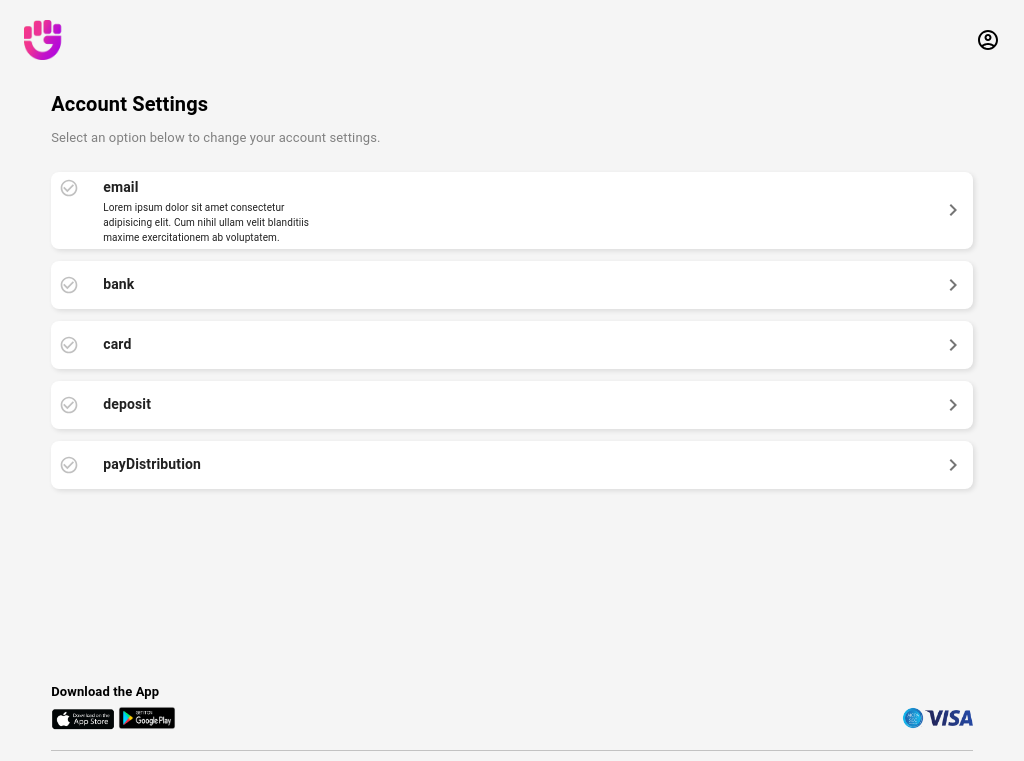
Test case: test the steps › check the pending state of a step
Click the button with test id "stepbutton" in the row of "email" at (953, 210), box [933,176,973,244]
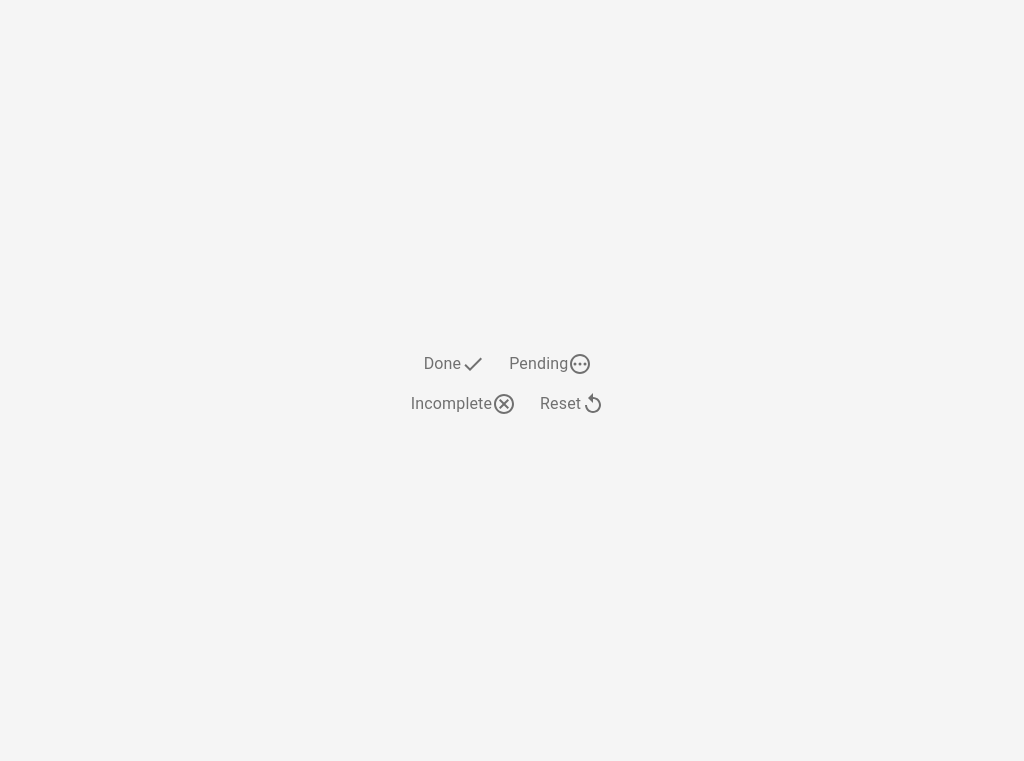
Check: the text "Pending" is shown, box [509,352,568,376]
Click the button "Pending" at (555, 364), box [501,344,608,384]
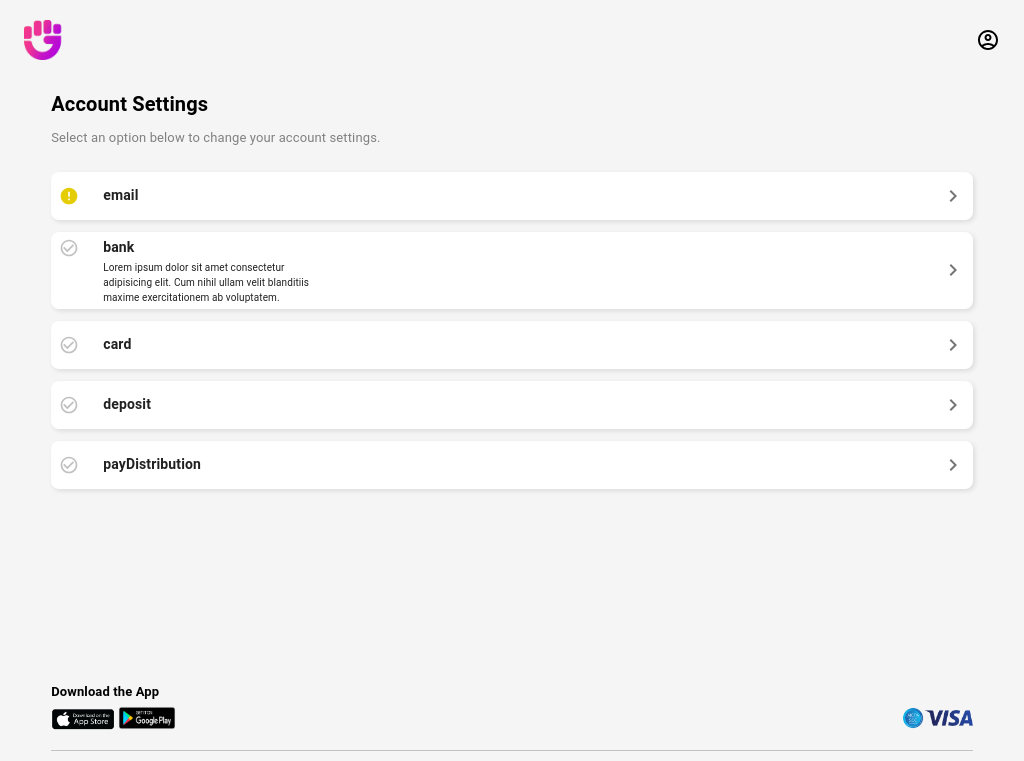
Check: the icon with test id "pending-step" is shown, box [59,186,79,206]
